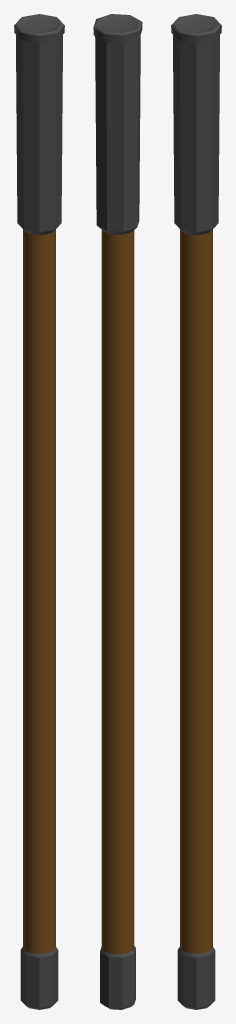
Rendered from Staff.fbx.
3 renders of one model, left to right at view 1: azimuth 90°, elevation 25°; view 2: azimuth 150°, elevation 25°; view 3: azimuth 270°, elevation 25°, orthographic.
Visible parts, largest first — view 1: Staff; view 2: Staff; view 3: Staff.
Part boxes in pixels (left/top/right/bottom): Staff: left=14, top=14, right=64, bottom=1009; Staff: left=93, top=14, right=142, bottom=1009; Staff: left=171, top=14, right=221, bottom=1009.
Bounding box in the file's own units: 57.38 × 1220 × 57.38.
